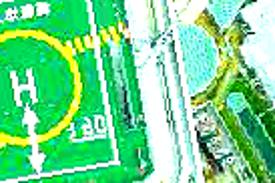Apron: (1, 28, 86, 148)
